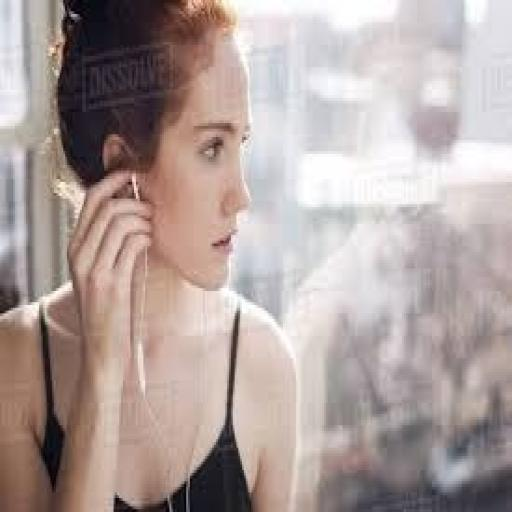listening_to_music: (0, 0, 302, 509)
